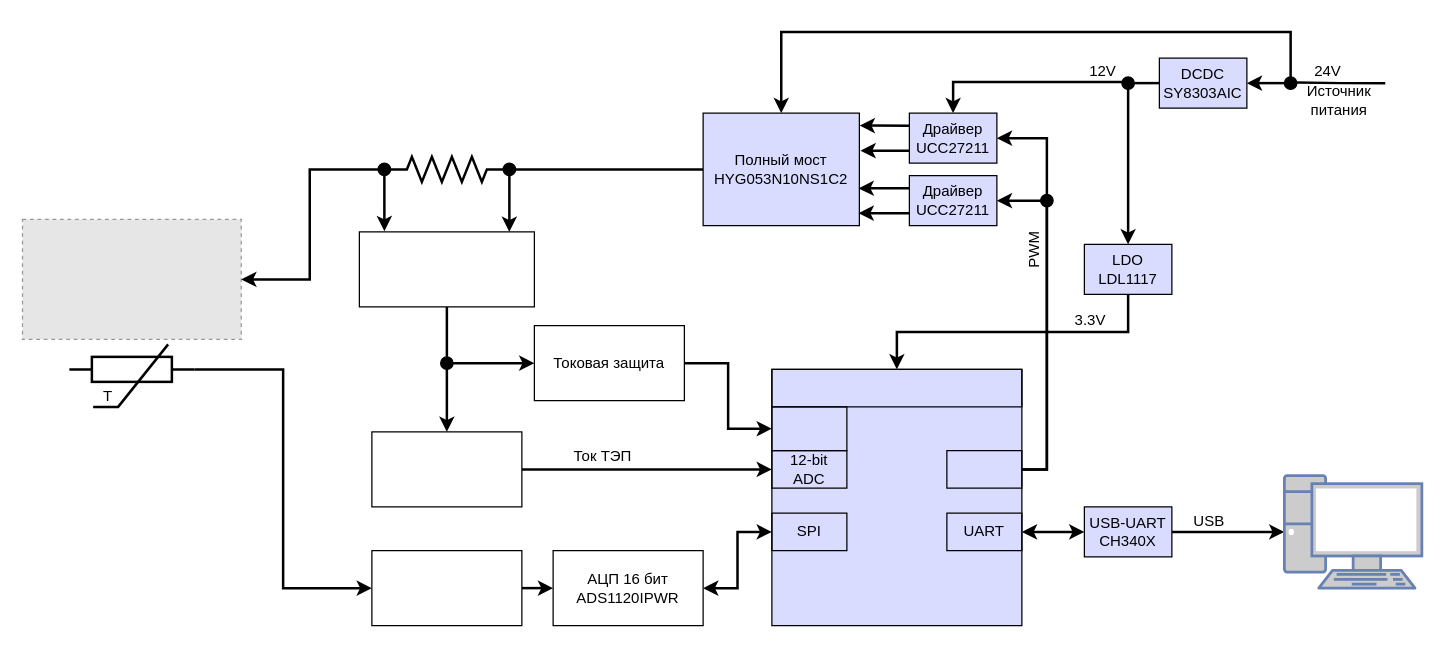
Image size: 1444x648. Some labels were removed from this diagram. Grey dashed boxes stand in for pictures. Here are the shapes that lost their labels. From the top down, the centre of each, then its label:
At [446,269]: "Усилитель тока AD8418".
At [896,387]: "STM32F334C8T6".
At [809,428]: "PWM EMG".
At [446,469]: "ФНЧ+ОУ TLV9002".
At [984,468]: "PWM OUT".
At [446,587]: "ОУ TLV9002".
